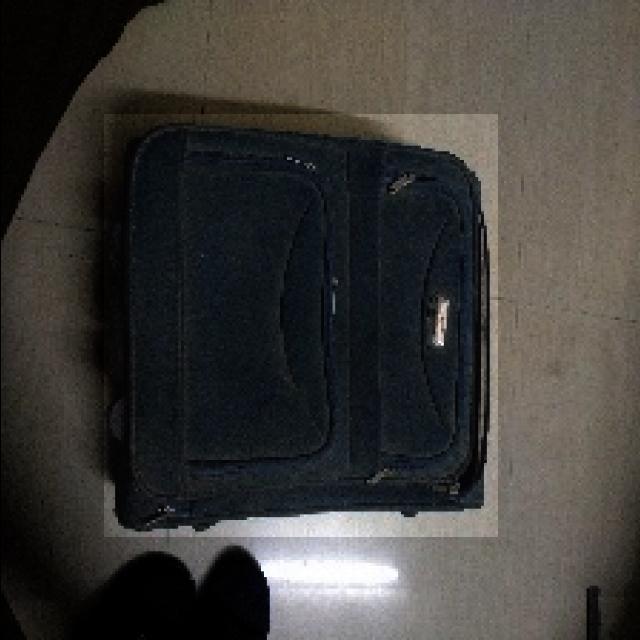Suitcase: (107, 101, 505, 538)
